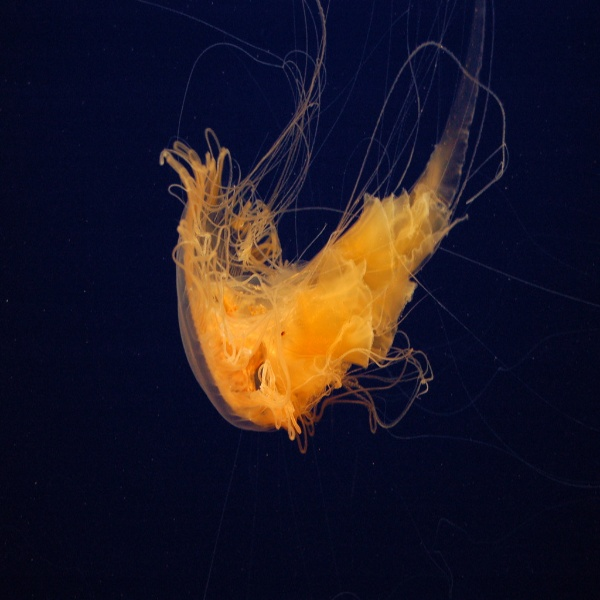Jellyfish: (186, 28, 537, 476)
